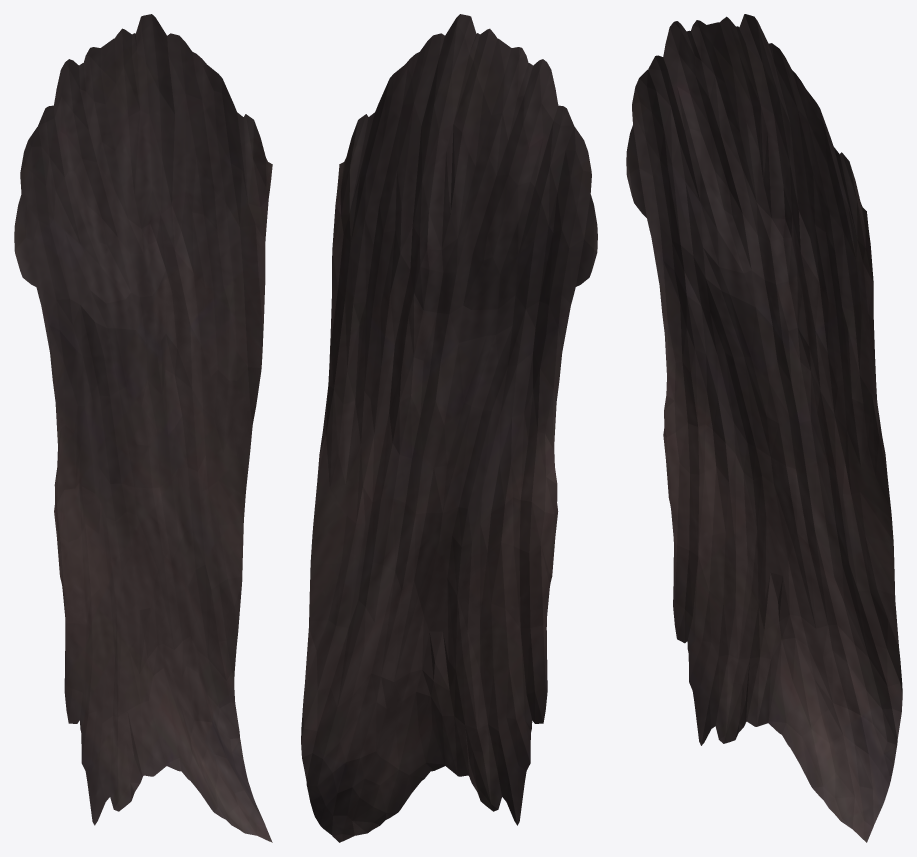
3 views of the same model, side by side, from view 1: azimuth 30°, elevation 25°; view 2: azimuth 150°, elevation 25°; view 3: azimuth 330°, elevation 25° (orthographic). The views are drawn at different scales.
Visible parts, largest first — view 1: 091_W_Aya_100K_01; view 2: 091_W_Aya_100K_01; view 3: 091_W_Aya_100K_01.
Part boxes in pixels (x1=…): 091_W_Aya_100K_01: x1=14, y1=14, x2=272, y2=842; 091_W_Aya_100K_01: x1=301, y1=14, x2=597, y2=842; 091_W_Aya_100K_01: x1=626, y1=14, x2=902, y2=842.
Size of the model in its own units: 52.09 by 165 by 13.43.
1 material, 1 textured.
